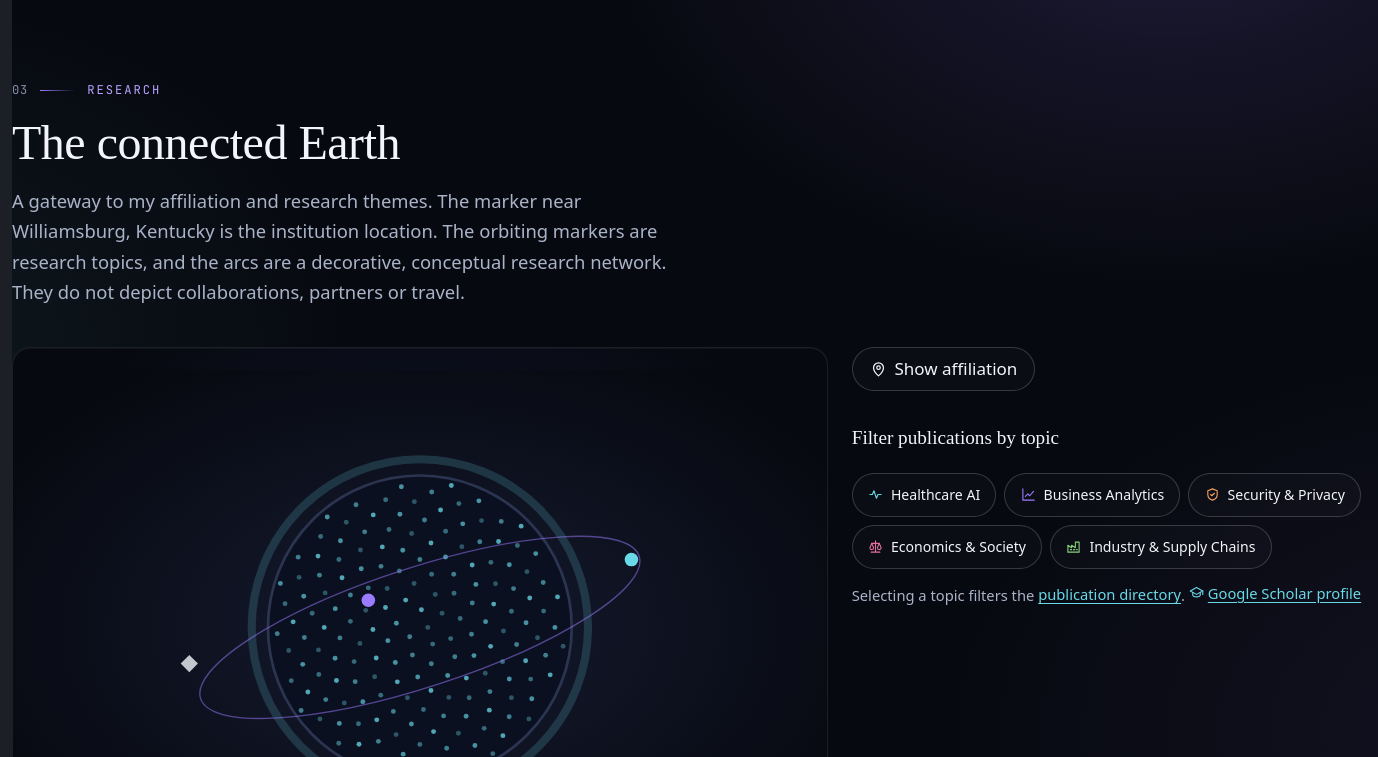
Test: EarthSection › reveals the supplied affiliation through an accessible disclosure
The image size is (1378, 757).
Click the button "Show affiliation" at (943, 369), box [852,347,1035,391]
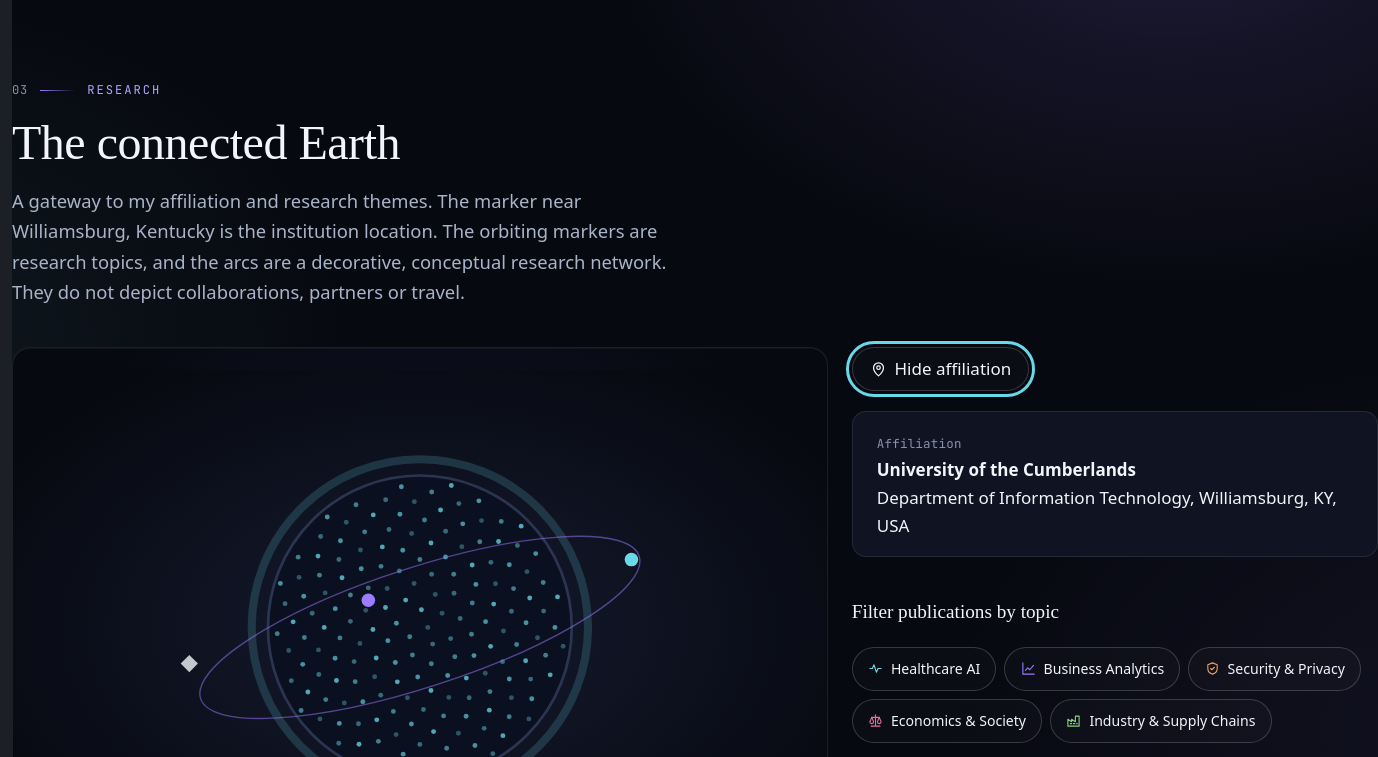
Expected: the button named "Show affiliation" is expanded, [852,347,1029,391]
Expected: the text "University of the Cumberlands" is shown, [877,458,1136,481]
Expected: the element with id "affil-card" shows "Department of Information Technology, Williamsburg, KY, USA", [852,411,1377,557]
